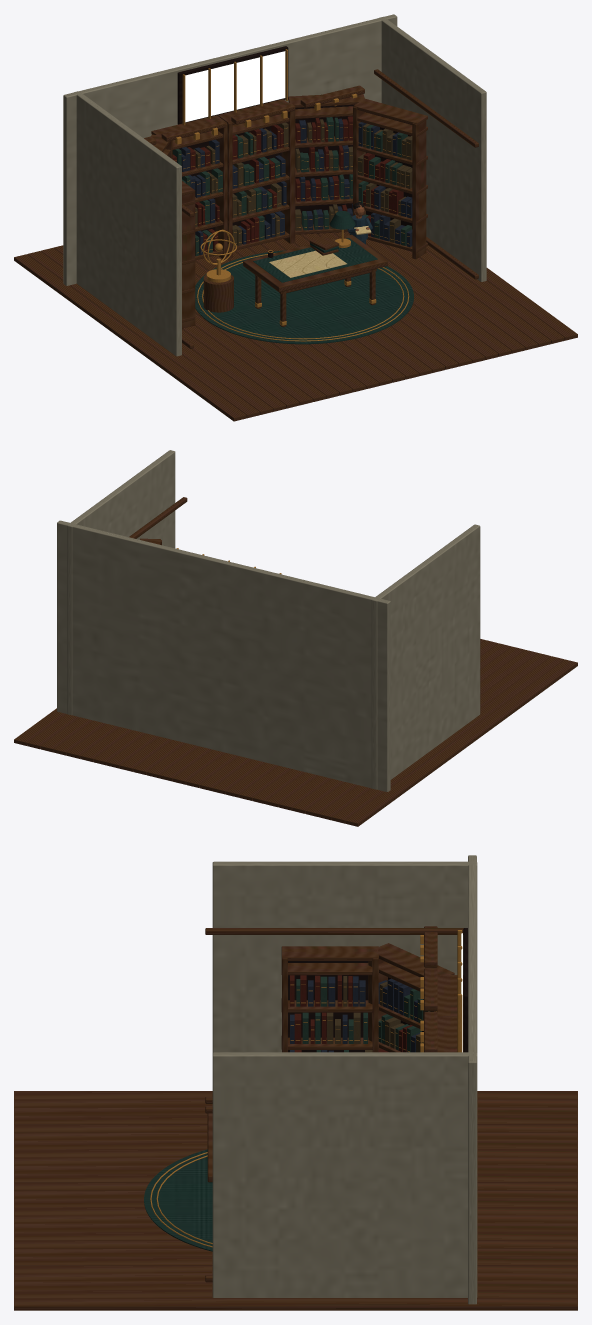
File: room.glb
The picture shows the model from 3 angles, top to bottom: view 1: azimuth 30°, elevation 25°; view 2: azimuth 150°, elevation 25°; view 3: azimuth 270°, elevation 25°; orthographic projection. The views are drawn at different scales.
Parts seen in each view (by area): view 1: Oak floorboard, Plaster backdrop, Archive rug, Cloth-bound volume.001, Cloth-bound volume, Cloth-bound volume.004, Frosted daylight, Cloth-bound volume.002, Rug border, Cabinet backing, Blank contour study; view 2: Plaster backdrop, Oak floorboard; view 3: Plaster backdrop, Oak floorboard, Archive rug, Cabinet backing, Cloth-bound volume.001, Cloth-bound volume, Rug border, Cloth-bound volume.002, Cloth-bound volume.004.
Part boxes in pixels (x1,y1,x2,y2): Oak floorboard: [14, 69, 577, 421]; Plaster backdrop: [63, 14, 486, 356]; Archive rug: [195, 211, 413, 344]; Cloth-bound volume.001: [179, 118, 412, 254]; Cloth-bound volume: [172, 117, 411, 256]; Cloth-bound volume.004: [193, 119, 412, 246]; Frosted daylight: [185, 51, 285, 122]; Cloth-bound volume.002: [172, 116, 403, 253]; Rug border: [174, 49, 410, 341]; Cabinet backing: [177, 46, 412, 257]; Blank contour study: [269, 250, 346, 277]; Plaster backdrop: [57, 450, 480, 791]; Oak floorboard: [14, 497, 577, 826]; Plaster backdrop: [212, 855, 477, 1304]; Oak floorboard: [14, 926, 577, 1310]; Archive rug: [144, 1149, 212, 1251]; Cabinet backing: [288, 928, 467, 1052]; Cloth-bound volume.001: [290, 976, 420, 1052]; Cloth-bound volume: [296, 976, 423, 1052]; Rug border: [150, 930, 462, 1247]; Cloth-bound volume.002: [290, 975, 412, 1052]; Cloth-bound volume.004: [327, 976, 430, 1052].
Bounding box in the file's own units: 10.39 × 5.55 × 11.5.
14 materials, 14 textured.
